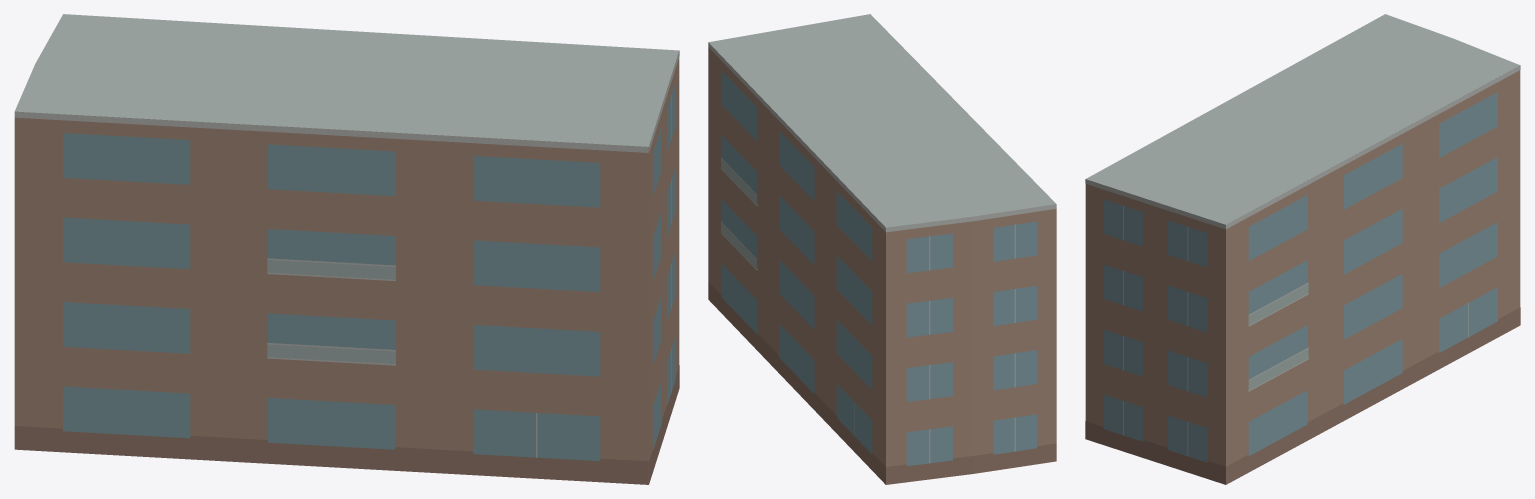
The model's file is survey-upis-32817434.glb.
3 renders of one model, left to right at view 1: azimuth 30°, elevation 25°; view 2: azimuth 150°, elevation 25°; view 3: azimuth 270°, elevation 25°, orthographic. The views are drawn at different scales.
Parts seen in each view (by area): view 1: survey-upis-32817434.tmp; view 2: survey-upis-32817434.tmp; view 3: survey-upis-32817434.tmp.
Boxes of the visible parts, box(x1,y1,x2,y2) form: survey-upis-32817434.tmp: box(14, 14, 679, 484); survey-upis-32817434.tmp: box(708, 14, 1056, 484); survey-upis-32817434.tmp: box(1085, 14, 1520, 484).
Bounding box in the file's own units: 23.65 × 13.6 × 20.62.
